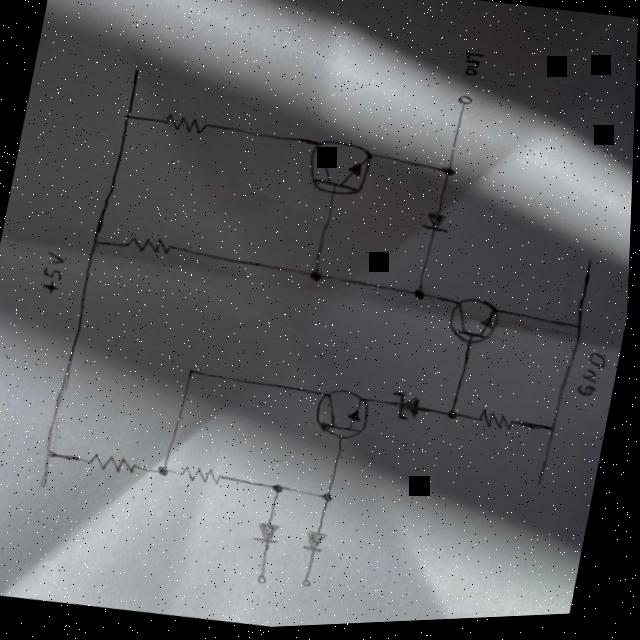diode: (389, 387, 427, 429), (415, 209, 456, 244), (251, 518, 288, 553), (303, 527, 334, 562)
junction: (434, 164, 464, 189), (440, 408, 466, 432), (302, 268, 329, 291), (37, 442, 63, 465), (407, 286, 433, 309), (83, 232, 107, 255), (151, 462, 176, 484), (318, 491, 343, 511), (565, 322, 590, 342), (268, 480, 290, 502), (543, 421, 564, 443), (115, 109, 137, 129), (182, 366, 202, 384)
resistor: (122, 233, 178, 263), (88, 451, 143, 479), (161, 113, 211, 141), (478, 411, 523, 441), (182, 464, 228, 491)
terminal: (447, 93, 477, 122), (33, 466, 59, 496), (530, 469, 555, 498), (577, 257, 601, 285), (251, 572, 275, 594), (125, 63, 145, 86), (298, 578, 319, 598)
text: (572, 351, 612, 411), (36, 244, 74, 305), (452, 47, 490, 85)
transistor: (298, 135, 380, 212), (310, 386, 377, 451), (444, 291, 508, 355)
